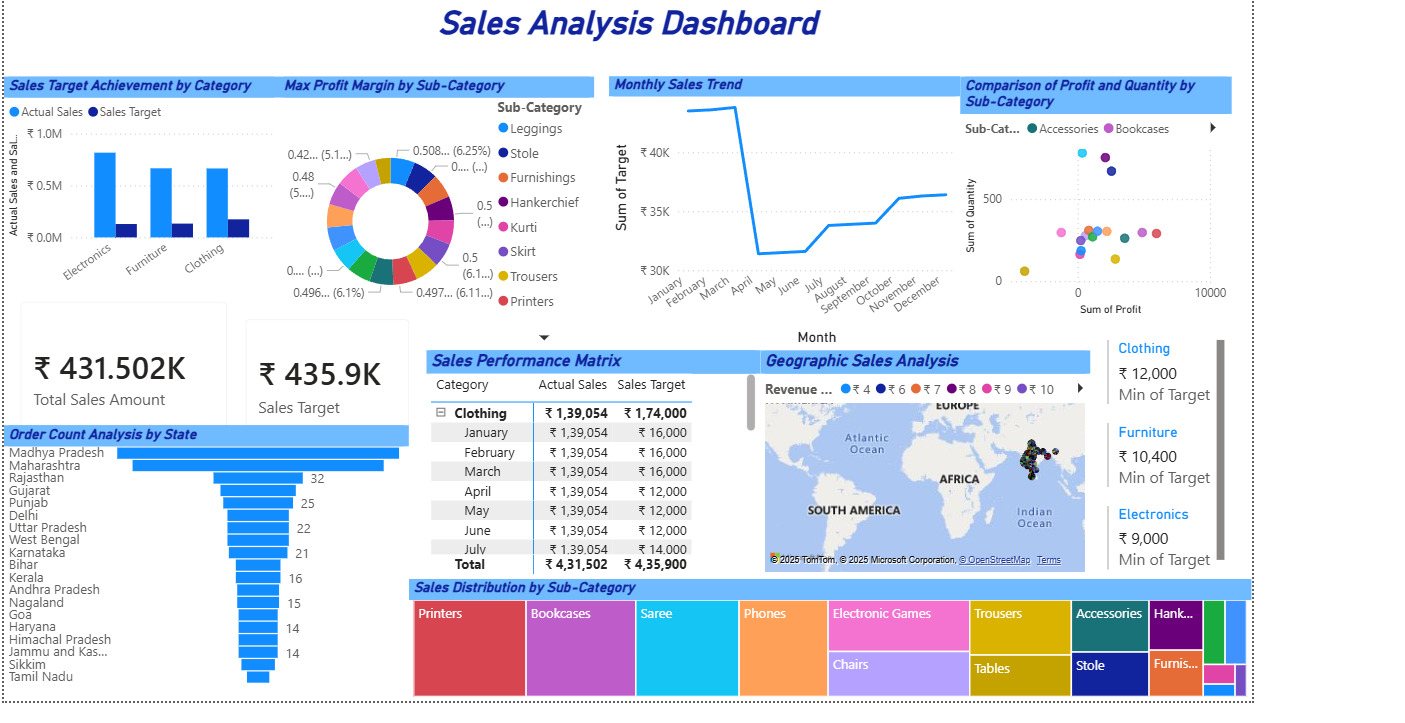

This screenshot's page, from the dashboard's own definition file:
{"tool":"powerbi","page":{"name":"Dash Board","canvas":[1280,720],"ordinal":10},"visuals":[{"type":"clusteredColumnChart","title":"Sales Target Achievement by Category","fields":{"Y":["Sum(Order Details.Revenue per Order)","Sum(Sales target.Target)"],"Category":["Sales target.Category"]},"box":[0,79.5,282.1,241],"z":0},{"type":"donutChart","title":"Max Profit Margin by Sub-Category","fields":{"Category":["Order Details.Sub-Category"],"Y":["Max(Order Details.Profit Margin)"]},"box":[282.1,79.5,323.1,280.8],"z":1000},{"type":"lineChart","title":"Monthly Sales Trend","fields":{"Category":["Sales target.Month of Order Date.Variation.Date Hierarchy.Month"],"Y":["Sum(Sales target.Target)"]},"box":[620.5,78.2,360.3,282.1],"z":2000},{"type":"scatterChart","title":"Comparison of Profit and Quantity by Sub-Category","fields":{"X":["Sum(Order Details.Profit)"],"Y":["Sum(Order Details.Quantity)"],"Series":["Order Details.Sub-Category"]},"box":[980.8,79.5,278.2,250],"z":3000},{"type":"cardVisual","fields":{"Data":["Sum(Order Details.Amount)"]},"box":[0,293.6,246.2,187.2],"z":4000},{"type":"cardVisual","fields":{"Data":["Sum(Sales target.Target)"]},"box":[230.8,311.5,202.6,165.4],"z":5000},{"type":"multiRowCard","fields":{"Values":["Min(Sales target.Target)","Sales target.Category"]},"box":[1126.9,344.9,129.5,250],"z":6000},{"type":"pivotTable","title":"Sales Performance Matrix","fields":{"Values":["Sum(Order Details.Amount)","Sum(Sales target.Target)"],"Rows":["Sales target.Category","Sales target.Month of Order Date.Variation.Date Hierarchy.Month"]},"box":[433.3,360.3,342.3,234.6],"z":7000},{"type":"map","title":"Geographic Sales Analysis","fields":{"Category":["List of Orders.City"],"Series":["Order Details.Revenue per Order"],"Size":["Sum(Order Details.Amount)"]},"box":[775.6,360.3,338.5,232.1],"z":8000},{"type":"treemap","title":"Sales Distribution by Sub-Category","fields":{"Group":["Order Details.Sub-Category"],"Values":["Sum(Order Details.Amount)"]},"box":[415.4,594.9,864.1,125.6],"z":9000},{"type":"funnel","title":"Order Count Analysis by State","fields":{"Y":["CountNonNull(List of Orders.Order ID)"],"Category":["List of Orders.State"]},"box":[0,437.2,415.4,270.5],"z":10000},{"type":"textbox","box":[0,0,1279.5,79.5],"z":10001}]}

Visuals, with their boxes on the page's 1280x720 design canvas (x1, y1, x2, y2). These are canvas units, not pixel positions in the 1405x723 screenshot, which may show the page scaled, cropped or inside an application window:
"Sales Target Achievement by Category" clusteredColumnChart: (x1=0, y1=80, x2=282, y2=320)
"Max Profit Margin by Sub-Category" donutChart: (x1=282, y1=80, x2=605, y2=360)
"Monthly Sales Trend" lineChart: (x1=620, y1=78, x2=981, y2=360)
"Comparison of Profit and Quantity by Sub-Category" scatterChart: (x1=981, y1=80, x2=1259, y2=330)
cardVisual - Sum(Order Details.Amount): (x1=0, y1=294, x2=246, y2=481)
cardVisual - Sum(Sales target.Target): (x1=231, y1=312, x2=433, y2=477)
multiRowCard - Min(Sales target.Target) x Sales target.Category: (x1=1127, y1=345, x2=1256, y2=595)
"Sales Performance Matrix" pivotTable: (x1=433, y1=360, x2=776, y2=595)
"Geographic Sales Analysis" map: (x1=776, y1=360, x2=1114, y2=592)
"Sales Distribution by Sub-Category" treemap: (x1=415, y1=595, x2=1280, y2=720)
"Order Count Analysis by State" funnel: (x1=0, y1=437, x2=415, y2=708)
textbox: (x1=0, y1=0, x2=1280, y2=80)
